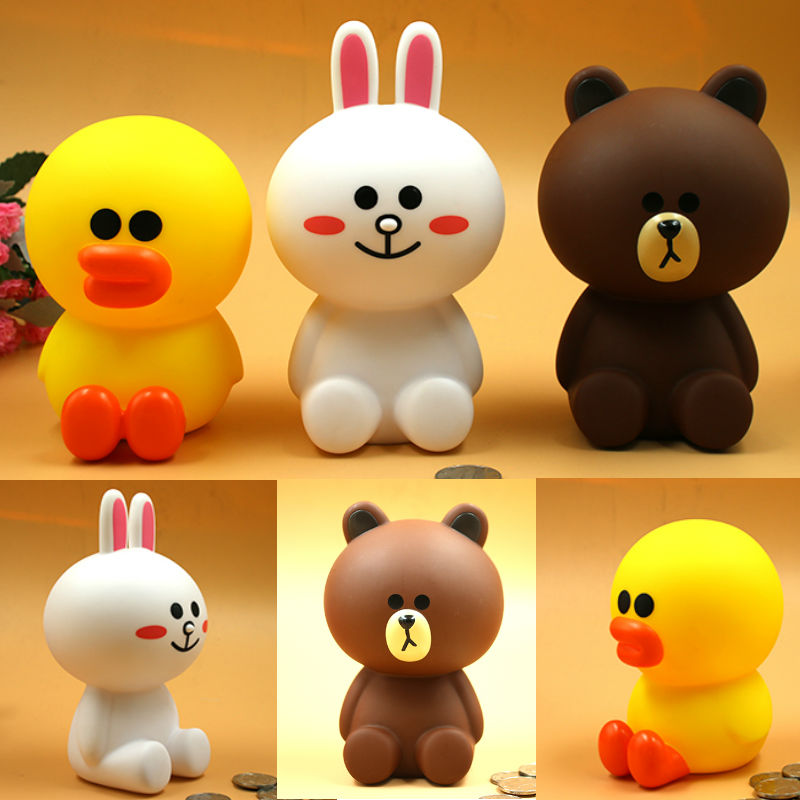line_brown: (537, 54, 796, 299), (314, 496, 511, 688)
